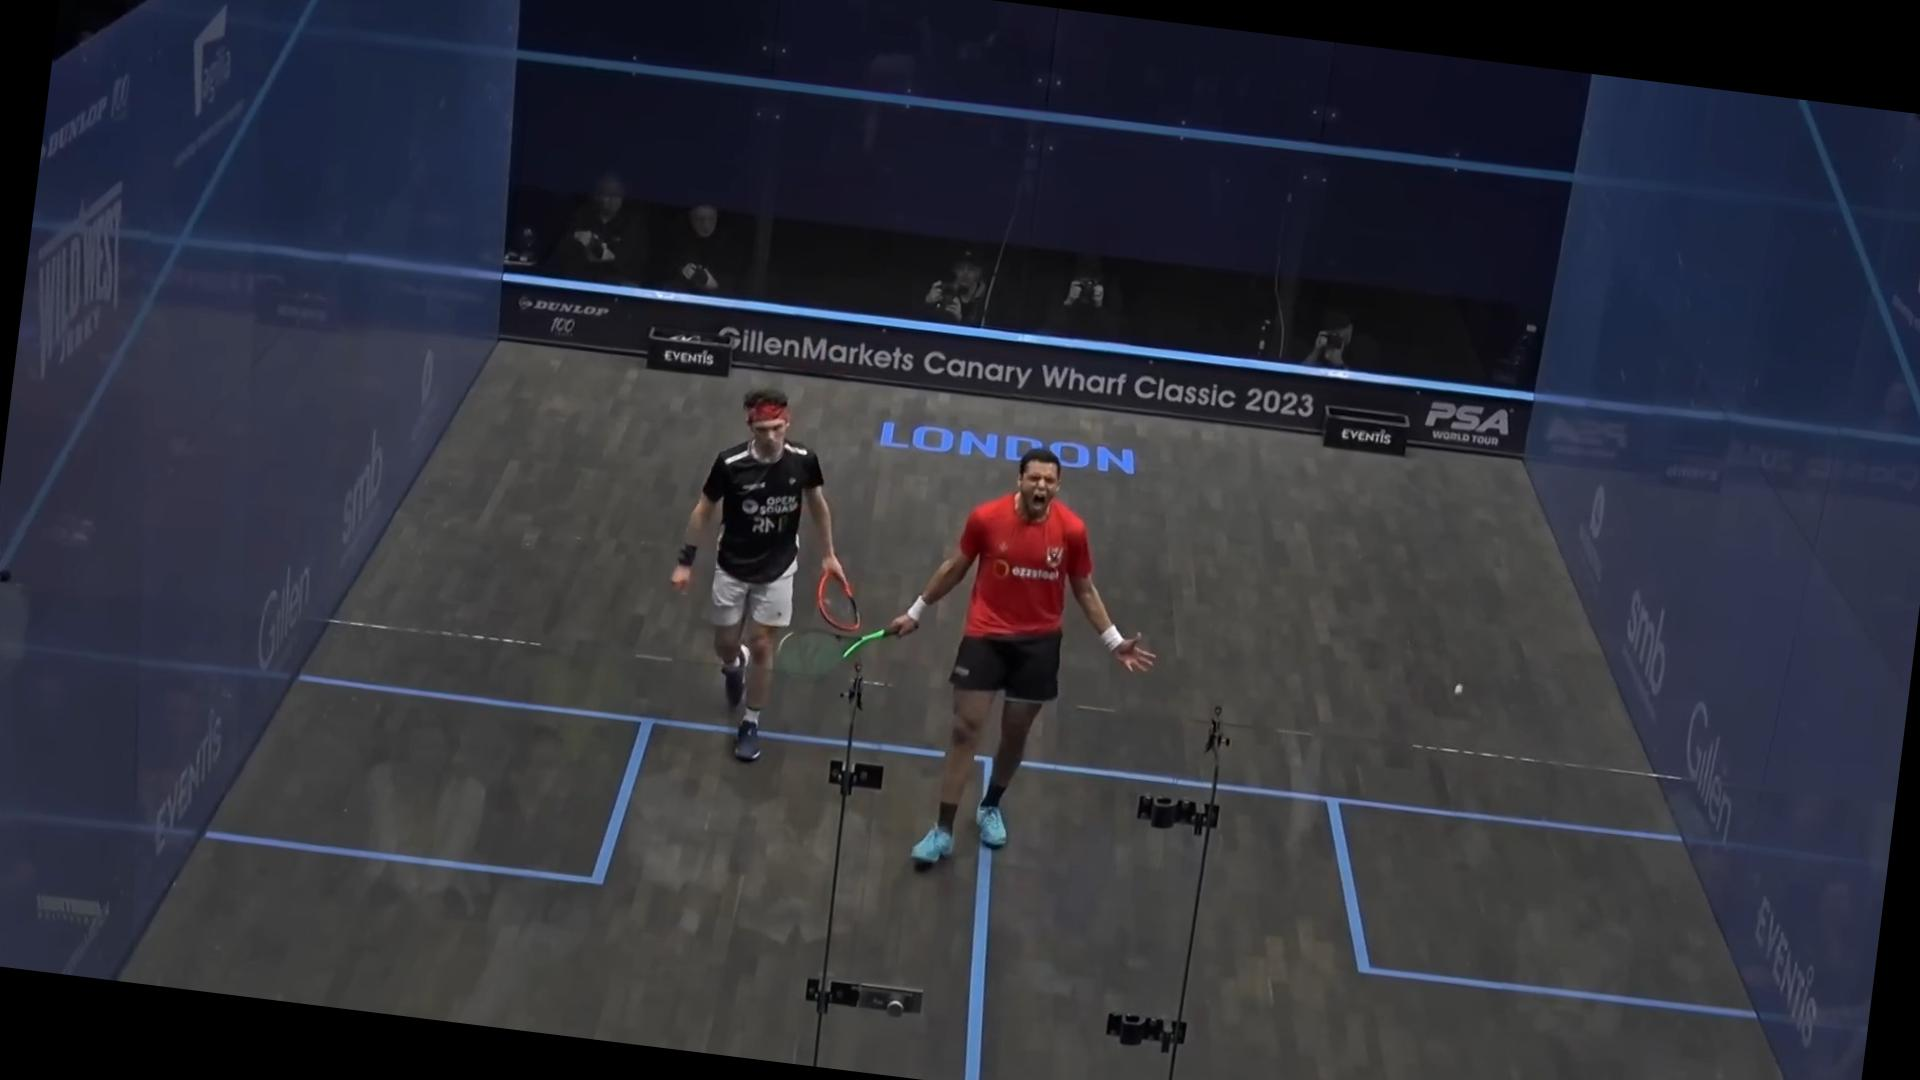Racket: (750, 622, 905, 715), (802, 534, 878, 626)
